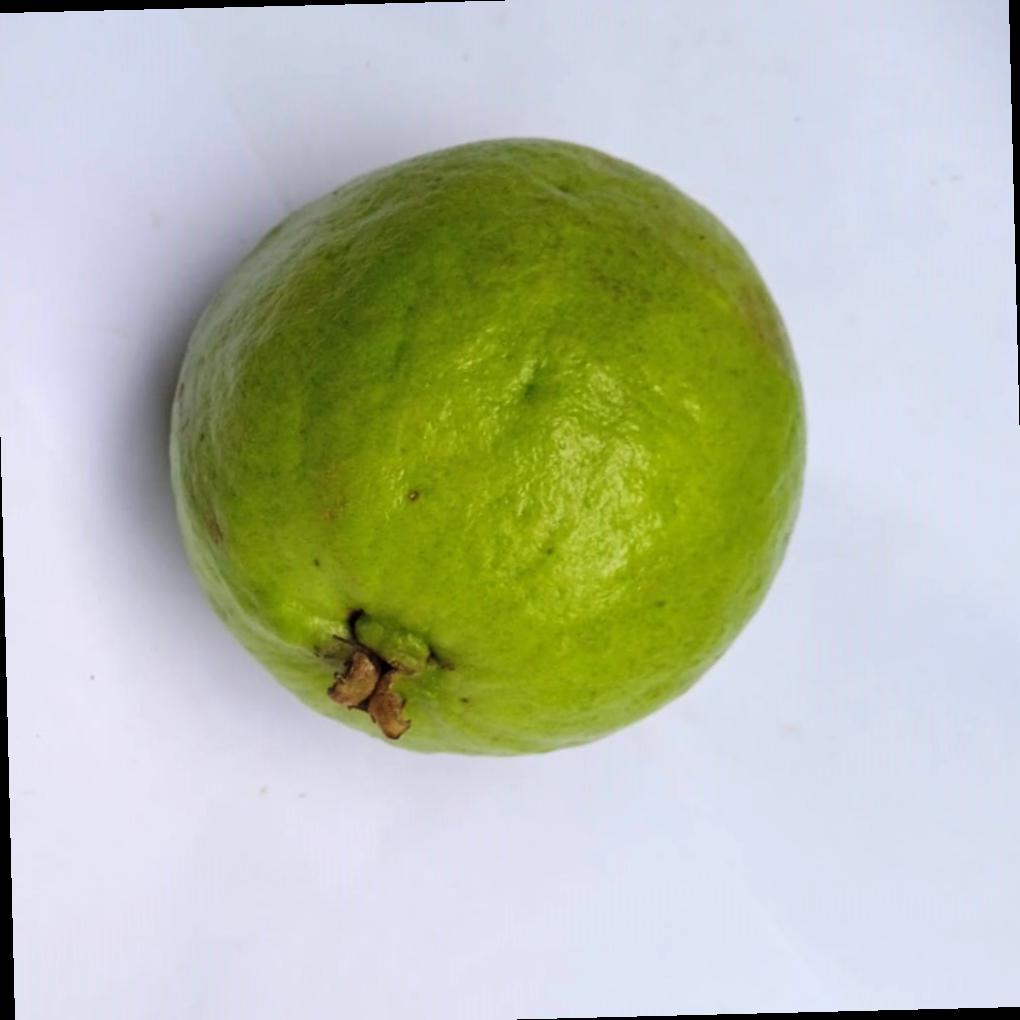FreshGuava: (167, 137, 809, 763)
